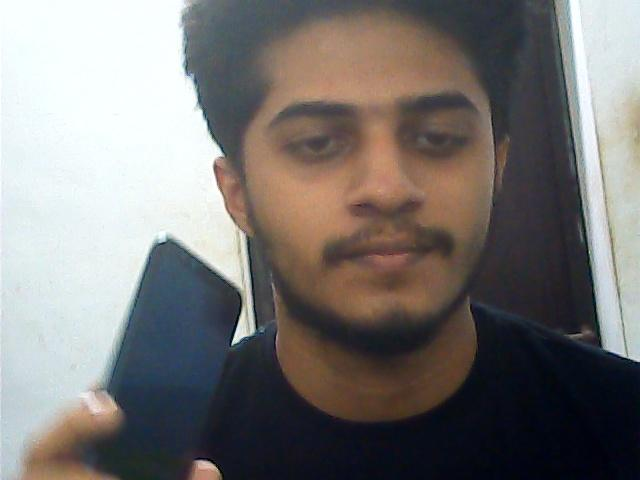PhoneUse: (87, 229, 247, 479)
SafeDriving: (394, 108, 483, 166), (274, 116, 364, 168)
